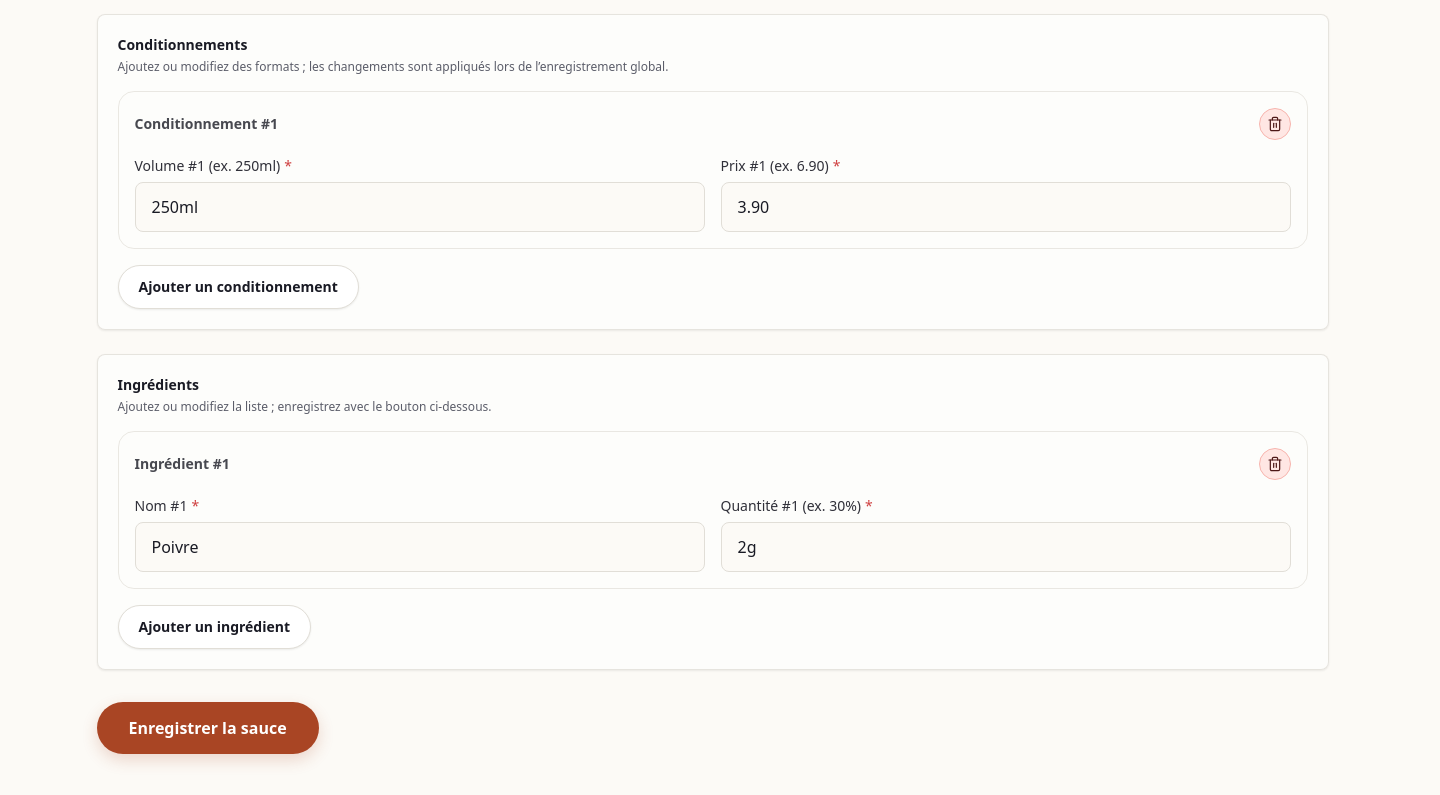
it: EditSaucePage › shows version conflict when the first PATCH returns 409
The image size is (1440, 795).
(page scrolled)
Click the button "Enregistrer la sauce" at (208, 728), box [96,702,319,754]
(page scrolled)
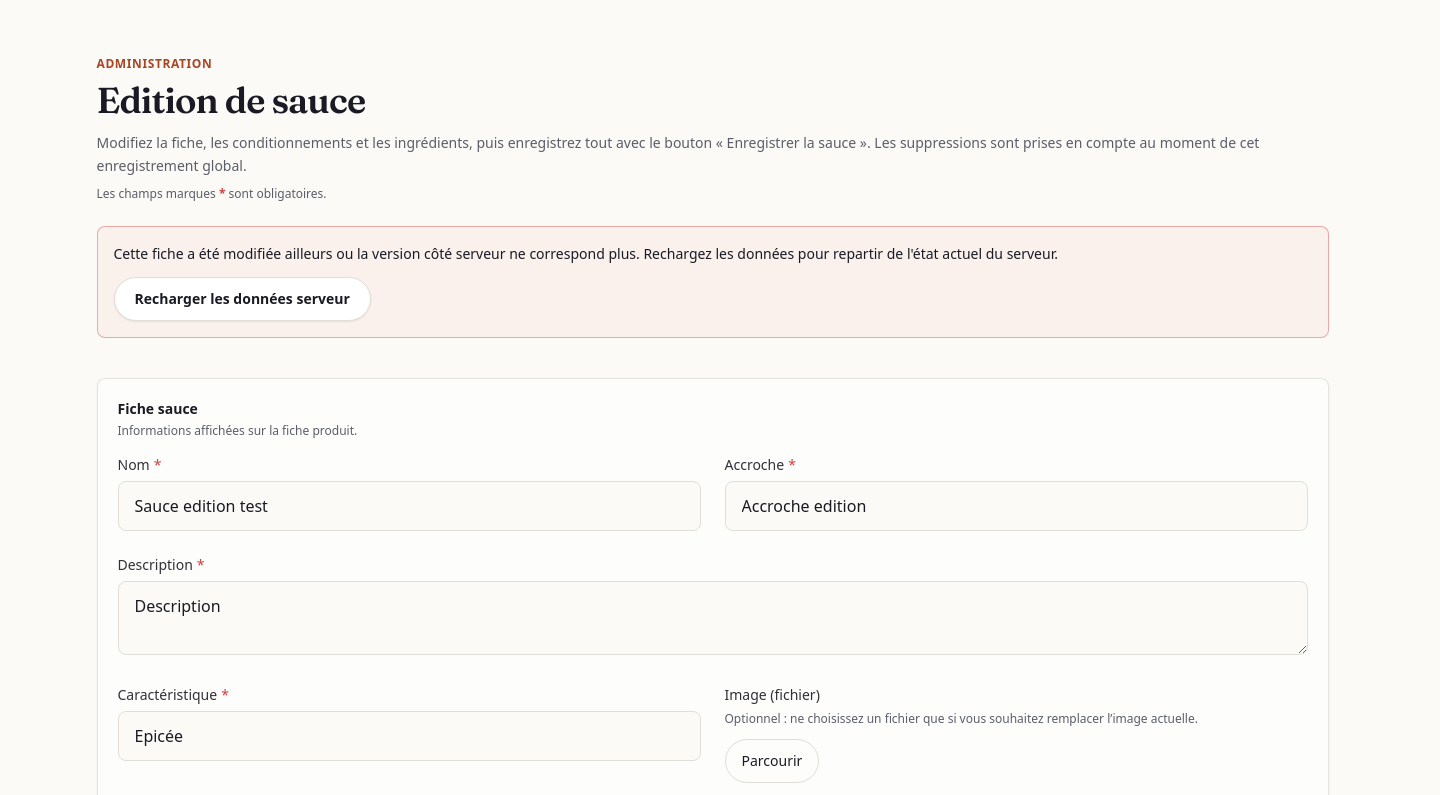
Now the text "Cette fiche a été modifiée ailleurs" is shown, box [114,244,1058,262]
